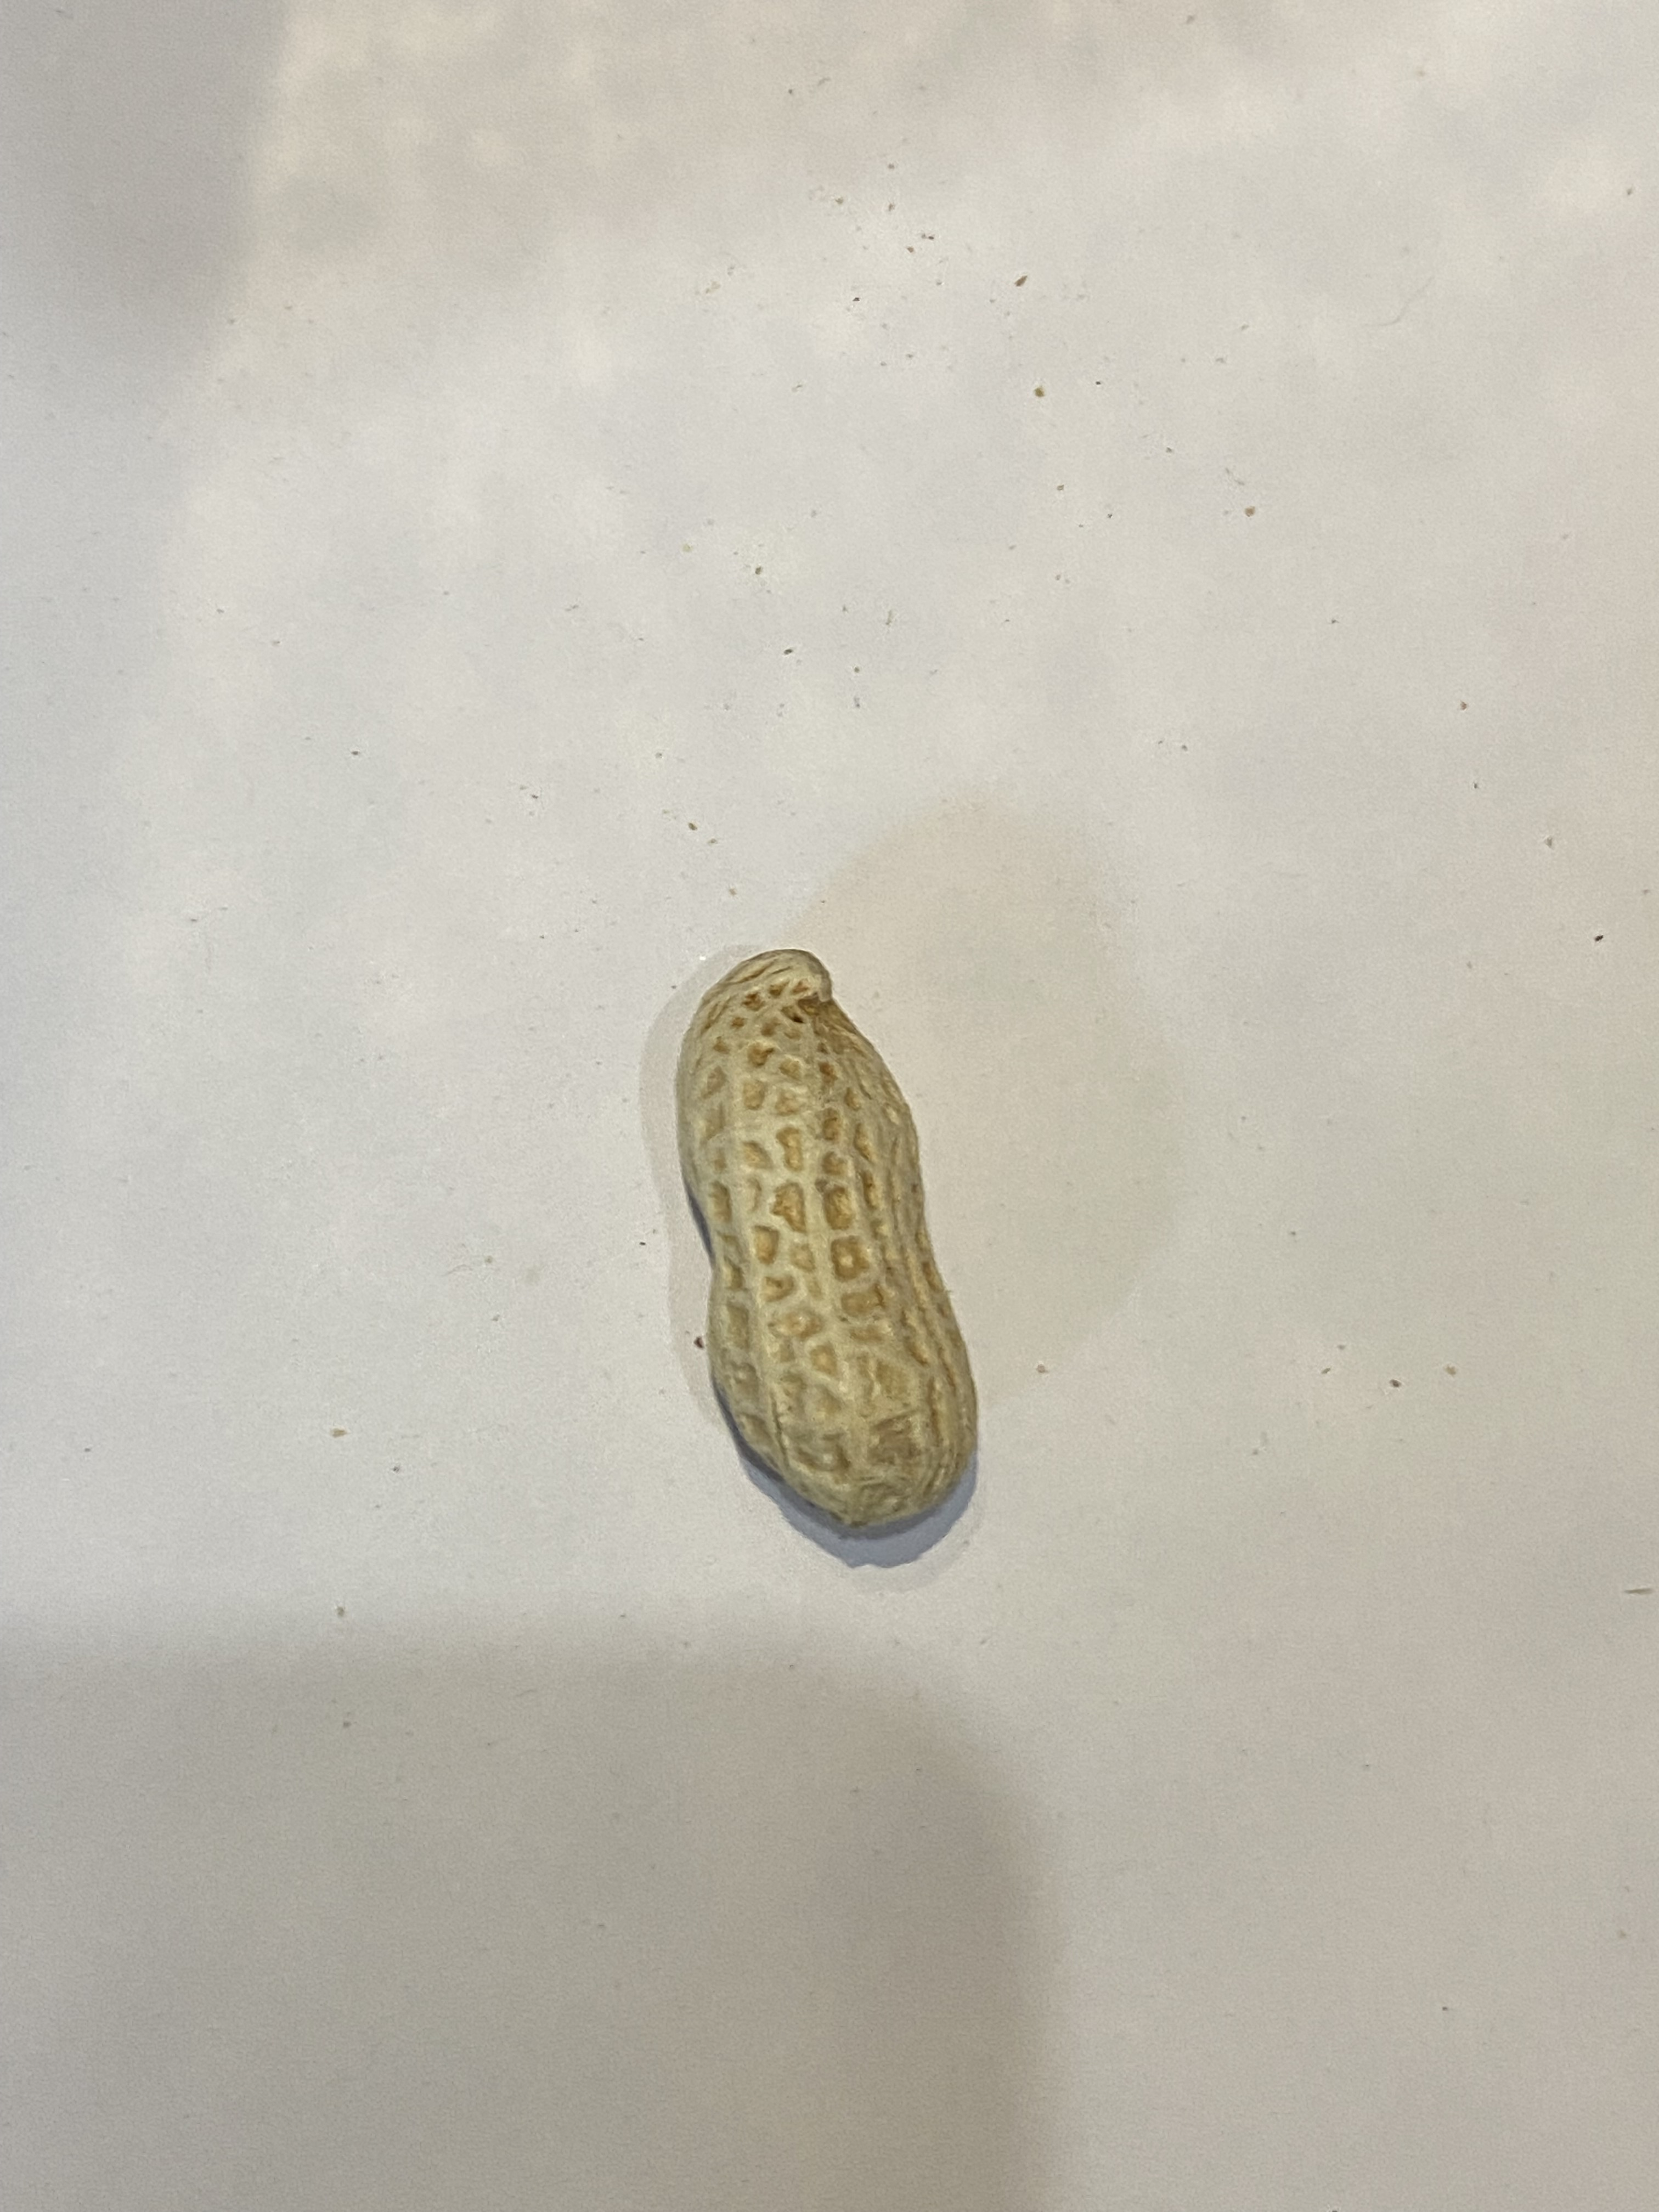kacang2: (657, 918, 1019, 1541)
